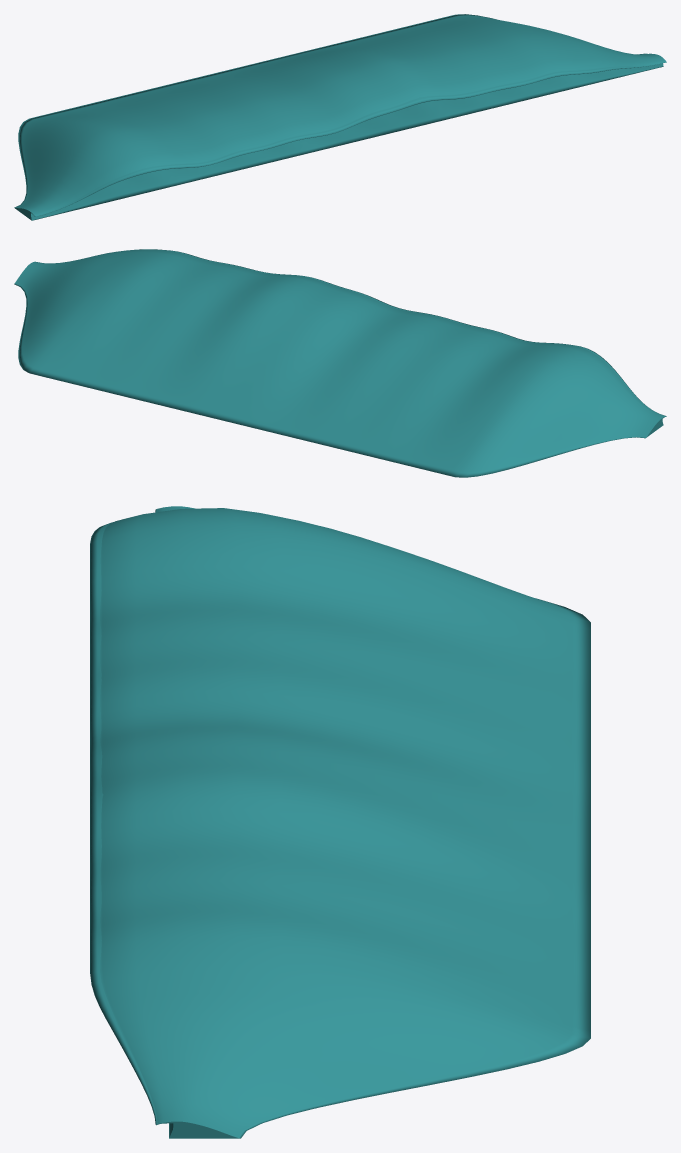
File: deep-impact-wave.glb
3 renders of one model, top to bottom at view 1: azimuth 30°, elevation 25°; view 2: azimuth 150°, elevation 25°; view 3: azimuth 270°, elevation 25°, orthographic. The views are drawn at different scales.
Parts seen in each view (by area): view 1: ImpactWave; view 2: ImpactWave; view 3: ImpactWave.
Boxes of the visible parts, x1,y1,x2,y2 form: ImpactWave: (14, 14, 666, 220); ImpactWave: (14, 249, 666, 477); ImpactWave: (90, 506, 590, 1138).
Size of the model in its own units: 363 by 29.11 by 125.
